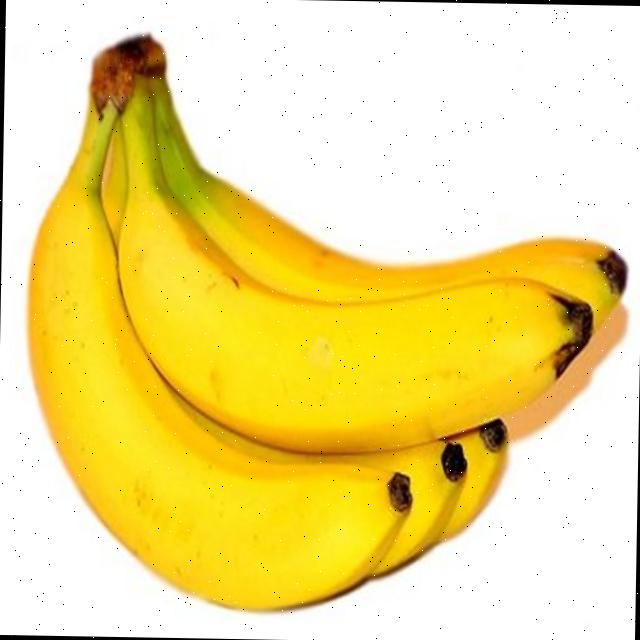Pisang: (84, 32, 632, 460)
